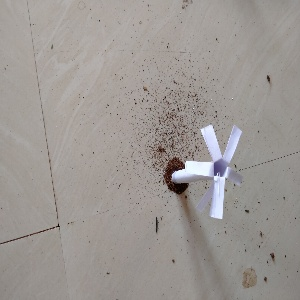weed: (172, 123, 242, 219)
